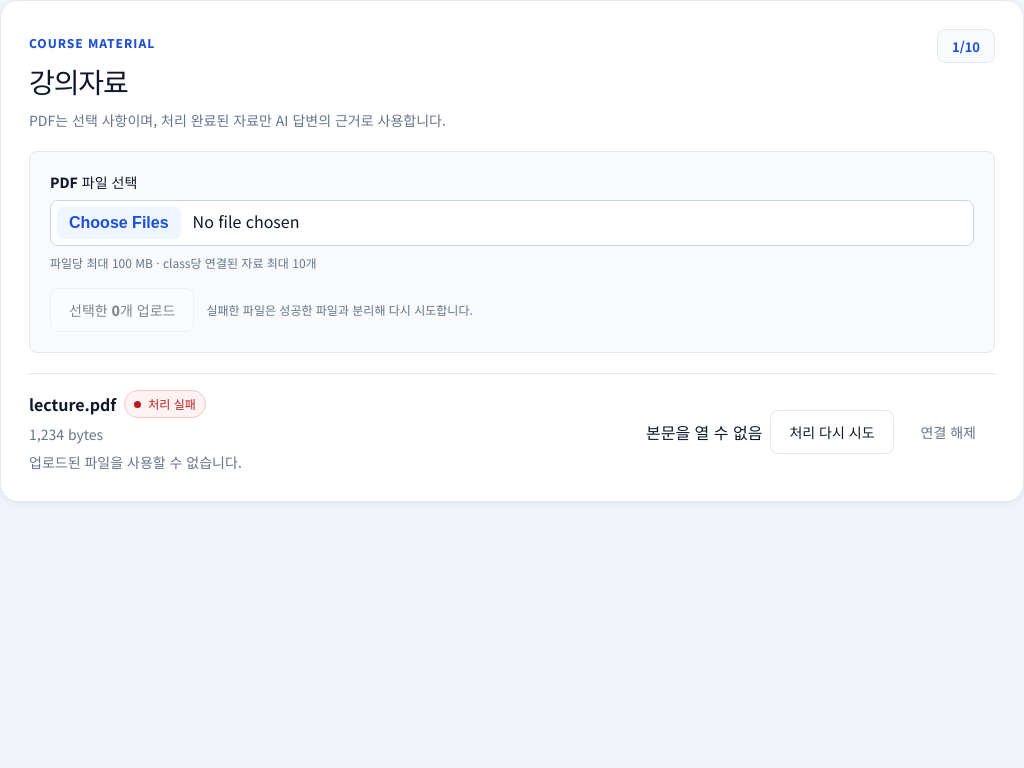
Test: MaterialPanel › refreshes the Material after its processing Job reaches a new state
This screenshot has width=1024, height=768.
Click the button "처리 다시 시도".
click(832, 432)  # box [770,410,894,454]
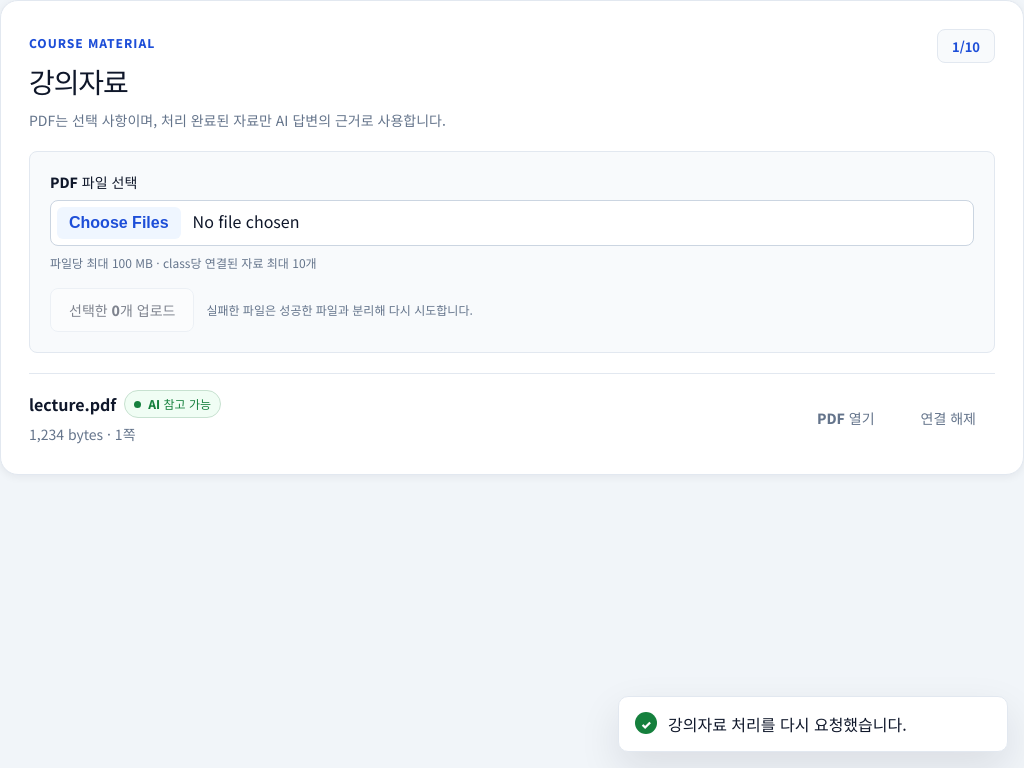
Expected: the text "AI 참고 가능" is shown, [124,390,221,418]
